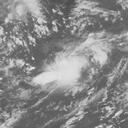cyclone: (28, 36, 105, 92)
